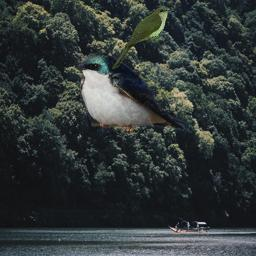Cuckoo: (112, 7, 173, 70)
Swallow: (74, 52, 192, 133)
